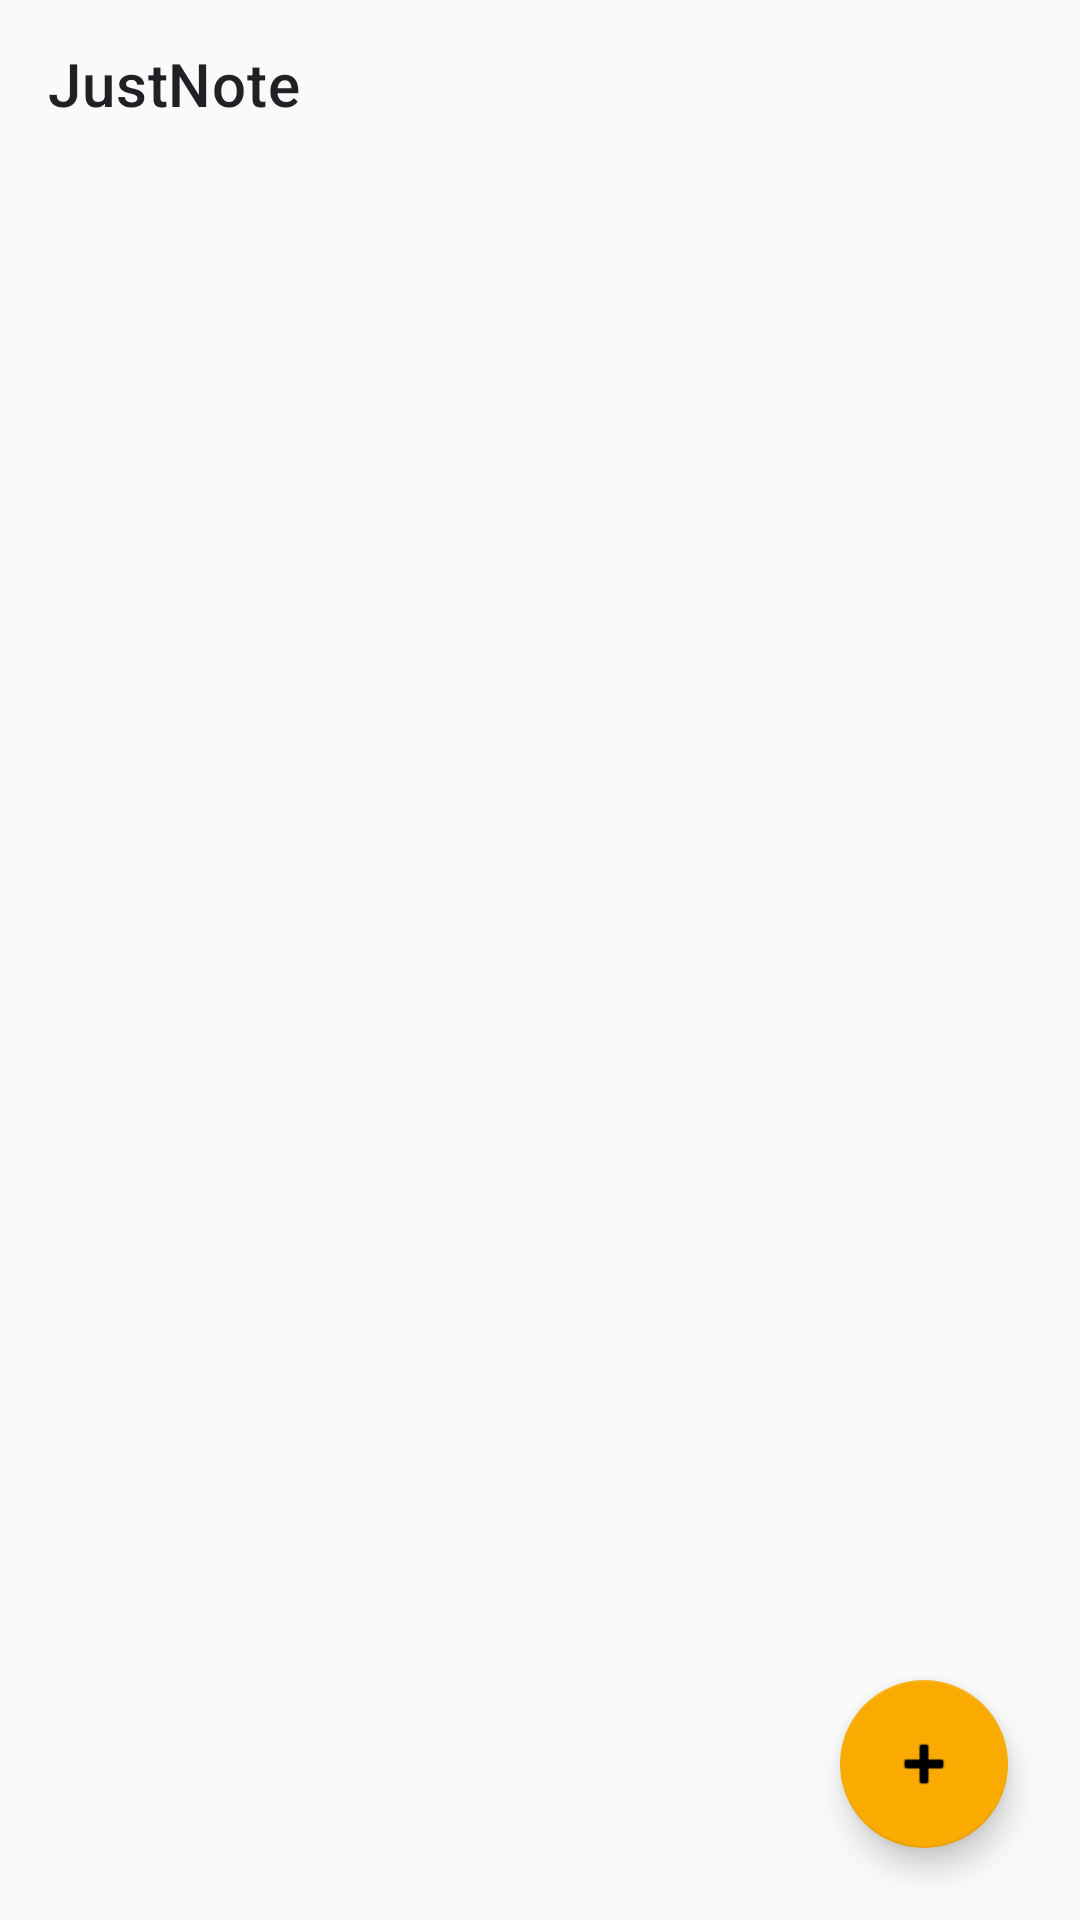

Locate icon controls on the screen. Image size 1080w x 1920h, boxes as (x1, y1, x2, y2).
Create Note: (840, 1680, 1008, 1848)
